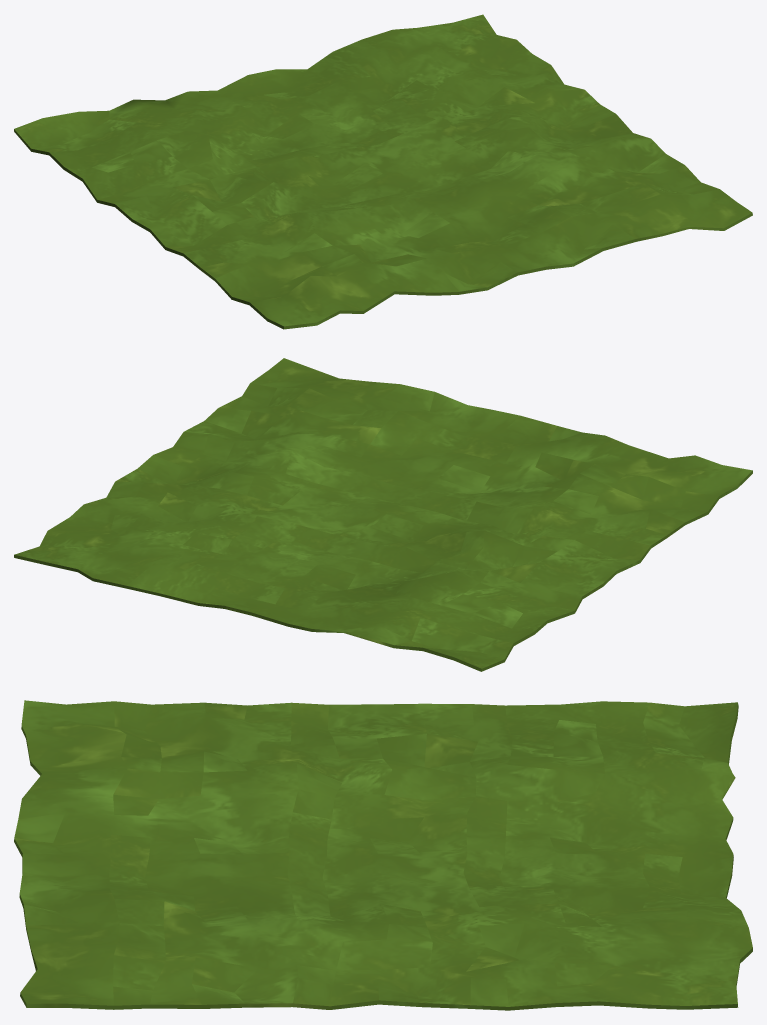
File: seaweed.fbx
The picture shows the model from 3 angles, top to bottom: view 1: azimuth 30°, elevation 25°; view 2: azimuth 150°, elevation 25°; view 3: azimuth 270°, elevation 25°; orthographic projection. The views are drawn at different scales.
Parts seen in each view (by area): view 1: Seaweed; view 2: Seaweed; view 3: Seaweed.
Boxes of the visible parts, <box> form: Seaweed: <box>14,14,752,329</box>; Seaweed: <box>14,358,752,671</box>; Seaweed: <box>14,700,752,1010</box>.
Size of the model in its own units: 2029 by 109 by 2077.
